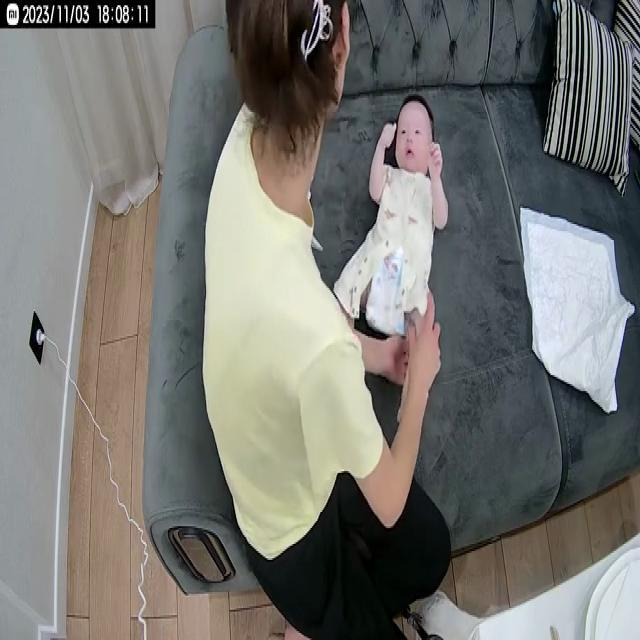baby: (334, 90, 454, 400)
